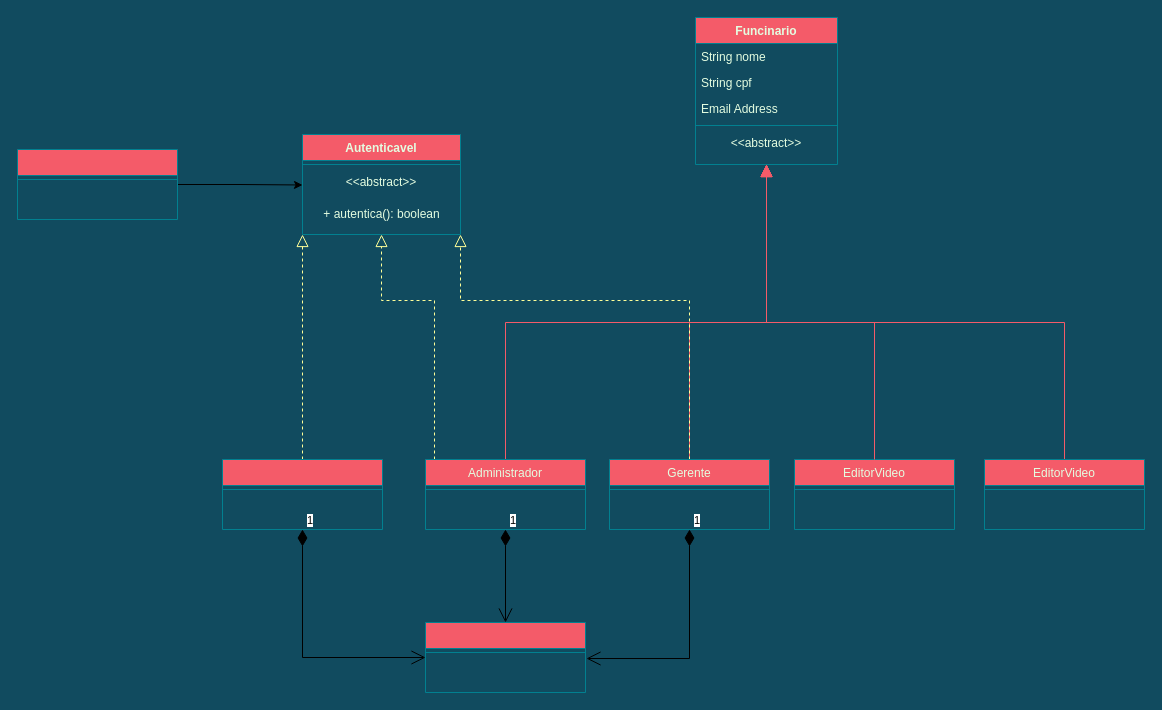
The diagram is 1162 pixels wide and 710 high, and some of its shapes have lost their labels. Each missing label, with the centre of its shape:
"AutenticacaoUtil" goes at point 505,657.
"Cliente" goes at point 302,494.
"SistemaInterno" goes at point 97,184.
